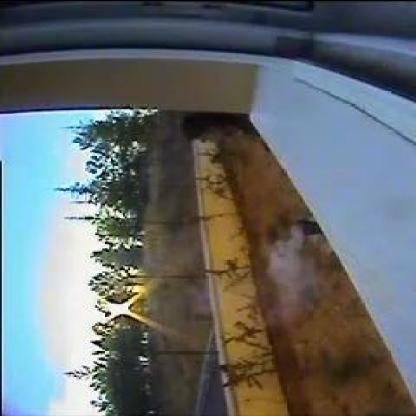-: (269, 223, 303, 301)
